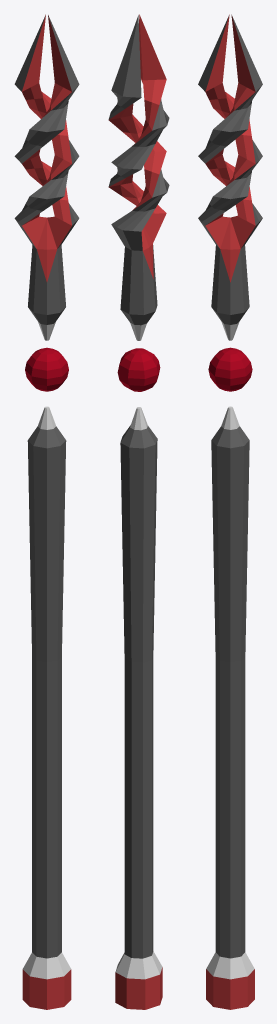
File: DarkStaff.fbx
3 renders of one model, left to right at view 1: azimuth 90°, elevation 25°; view 2: azimuth 150°, elevation 25°; view 3: azimuth 270°, elevation 25°, orthographic.
Parts seen in each view (by area): view 1: DarkStaff; view 2: DarkStaff; view 3: DarkStaff.
Boxes of the visible parts, left/top/right/bottom form: DarkStaff: left=14, top=14, right=79, bottom=1009; DarkStaff: left=108, top=14, right=169, bottom=1009; DarkStaff: left=198, top=14, right=262, bottom=1009.
Bounding box in the file's own units: 11.51 × 194 × 11.51.
Materials: 1 (1 with a texture image).
